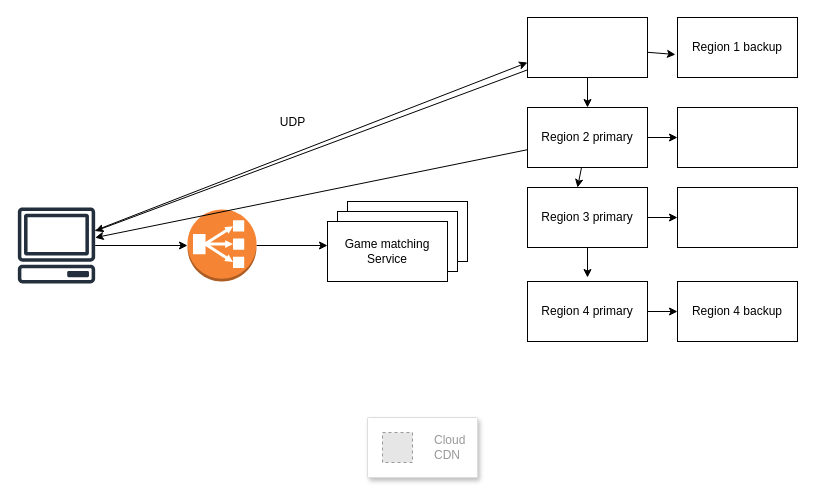
Some shapes in this 815 by 502 pixel diagram are drawn without their labels. Grey dashed boxes stand in for pictures. The shapes that lost their labels are listed below. From the top down, each one's centre as x and y in pixels, then its label:
pixel 587 47: Region 1 primary
pixel 737 137: Region 2 backup
pixel 737 217: Region 3 backup
